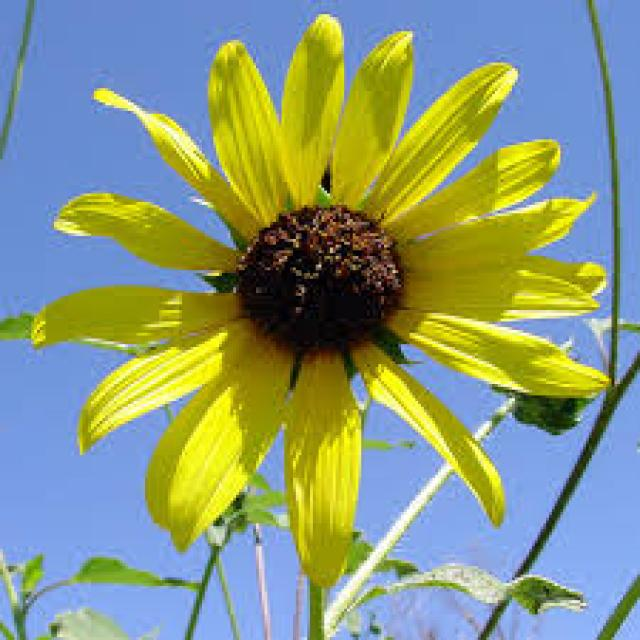sunflower: (21, 6, 627, 596)
